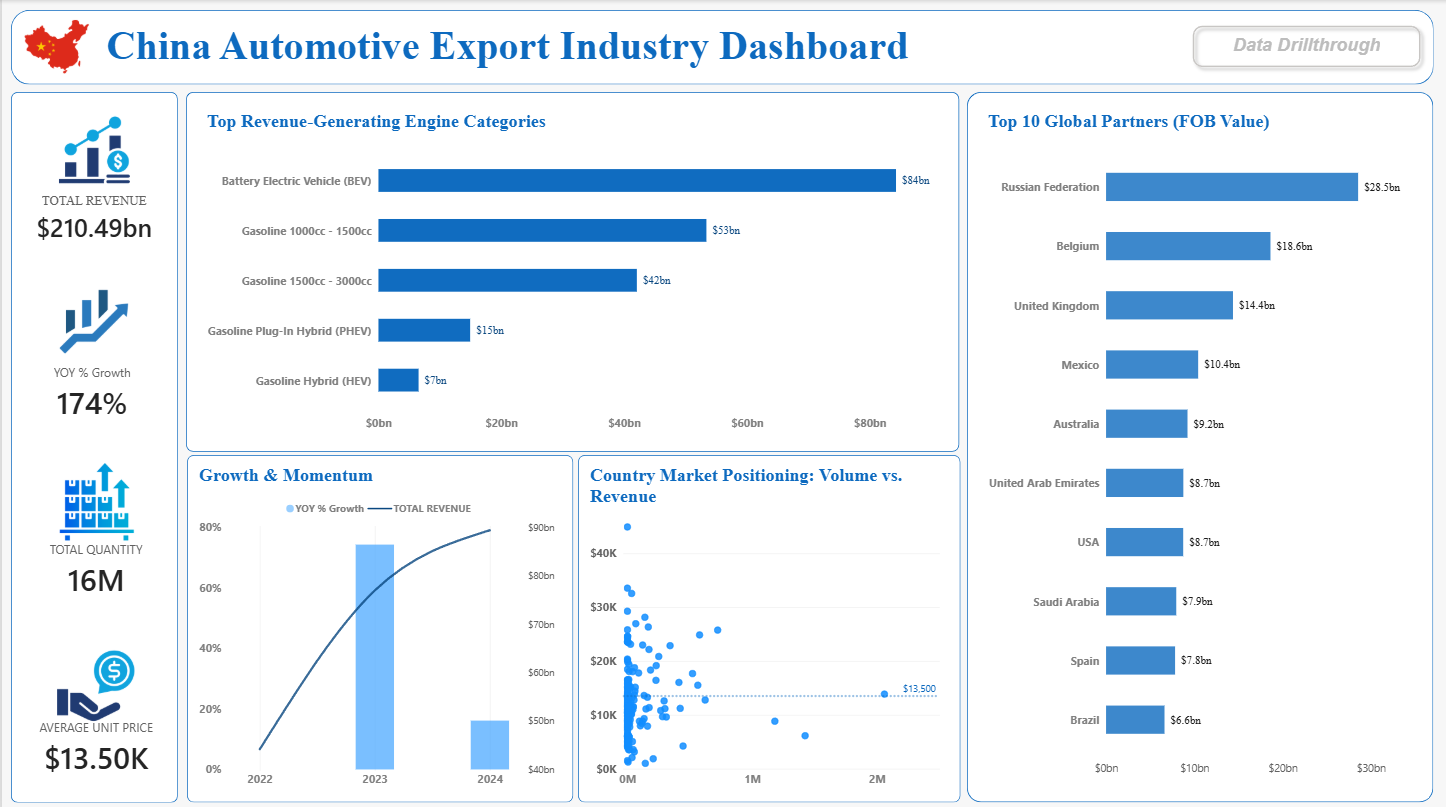

This screenshot's page, from the dashboard's own definition file:
{"tool":"powerbi","page":{"name":"Overview","canvas":[1920,1080],"ordinal":0},"visuals":[{"type":"shape","box":[11.7,122.6,221.8,945.4],"z":0},{"type":"cardVisual","title":"Total Revenue","fields":{"Data":["Mesures.YOY %"]},"box":[20.6,375.9,200,200],"z":1000,"group":"g4"},{"type":"shape","box":[11.7,13.1,1892.3,99.2],"z":2000},{"type":"textbox","box":[25.1,29.2,1294.1,68.6],"z":2000,"group":"g1"},{"type":"cardVisual","title":"Total Revenue","fields":{"Data":["Mesures.Total Revenue"]},"box":[22.6,139.5,200,200],"z":3000,"group":"g5"},{"type":"shape","box":[1283,122.8,620.2,944.7],"z":4000},{"type":"cardVisual","title":"Total Revenue","fields":{"Data":["Mesures.Average QTY"]},"box":[25,612.3,200,200],"z":5000,"group":"g3"},{"type":"shape","box":[765.5,605.2,508.7,462.3],"z":6000},{"type":"shape","box":[245.6,605.2,513.7,462.3],"z":6500},{"type":"shape","box":[245.1,122.6,1028.6,478.5],"z":7000},{"type":"cardVisual","title":"Total Revenue","fields":{"Data":["Mesures.AVERAGE UNIT PRICE"]},"box":[25.1,848.2,200,200],"z":8000,"group":"g2"},{"type":"barChart","title":"Top 10 Global Partners (FOB Value)","fields":{"Category":["Country_Dim.Country"],"Y":["Mesures.TOTAL REVENUE"]},"box":[1294.9,134,600.2,918],"z":9000},{"type":"scatterChart","title":"Country Market Positioning: Volume vs. Revenue","fields":{"Category":["Country_Dim.Country"],"X":["Mesures.TOTAL QUANTITY"],"Y":["Mesures.AVERAGE UNIT PRICE"]},"box":[765.5,605.2,508.7,462.3],"z":10000},{"type":"lineStackedColumnComboChart","title":"Growth & Momentum","fields":{"Category":["Date_Dim.Year"],"Y":["Mesures.YOY % Growth"],"Y2":["Mesures.TOTAL REVENUE"]},"box":[245.6,605.2,513.7,463.6],"z":11000},{"type":"barChart","title":"Top Revenue-Generating Engine Categories","fields":{"Category":["HS_Code_Dim.Sub Category"],"Y":["Mesures.TOTAL REVENUE"]},"box":[256.8,134.1,1017.4,459.8],"z":12000},{"type":"image","box":[13.4,14.6,118.2,94.8],"z":13000,"group":"g1"},{"type":"actionButton","title":"Data Drillthrought","box":[1574.2,24.8,321,72.9],"z":13000},{"type":"group","id":"g1","title":"Group 1","box":[13.4,14.6,1305.8,94.8],"z":14000},{"type":"image","box":[55.7,149.4,134.1,104],"z":15000,"group":"g5"},{"type":"image","box":[55.2,375.8,134.1,103],"z":16000,"group":"g4"},{"type":"image","box":[58.9,615.7,134,103],"z":17000,"group":"g3"},{"type":"image","box":[56.4,860.7,134,103],"z":18000,"group":"g2"},{"type":"group","id":"g2","title":"Group 2","box":[25.1,848.2,200.5,200.5],"z":28500},{"type":"group","id":"g3","title":"Group 3","box":[25,612.3,200,200],"z":29000},{"type":"group","id":"g4","title":"Group 4","box":[20.6,375.8,200,200.1],"z":29500},{"type":"group","id":"g5","title":"Group 5","box":[22.6,139.5,200,200],"z":30000}]}

Visuals, with their boxes in screenshot pixels (x1, y1, x2, y2), scaled from the page's 1920x1080 canvas onto the 1446x807 screenshot:
shape: {"left": 9, "top": 92, "right": 176, "bottom": 798}
"Total Revenue" cardVisual: {"left": 16, "top": 281, "right": 166, "bottom": 430}
shape: {"left": 9, "top": 10, "right": 1434, "bottom": 84}
textbox: {"left": 19, "top": 22, "right": 994, "bottom": 73}
"Total Revenue" cardVisual: {"left": 17, "top": 104, "right": 168, "bottom": 254}
shape: {"left": 966, "top": 92, "right": 1433, "bottom": 798}
"Total Revenue" cardVisual: {"left": 19, "top": 458, "right": 169, "bottom": 607}
shape: {"left": 577, "top": 452, "right": 960, "bottom": 798}
shape: {"left": 185, "top": 452, "right": 572, "bottom": 798}
shape: {"left": 185, "top": 92, "right": 959, "bottom": 449}
"Total Revenue" cardVisual: {"left": 19, "top": 634, "right": 170, "bottom": 783}
"Top 10 Global Partners (FOB Value)" barChart: {"left": 975, "top": 100, "right": 1427, "bottom": 786}
"Country Market Positioning: Volume vs. Revenue" scatterChart: {"left": 577, "top": 452, "right": 960, "bottom": 798}
"Growth & Momentum" lineStackedColumnComboChart: {"left": 185, "top": 452, "right": 572, "bottom": 799}
"Top Revenue-Generating Engine Categories" barChart: {"left": 193, "top": 100, "right": 960, "bottom": 444}
image: {"left": 10, "top": 11, "right": 99, "bottom": 82}
"Data Drillthrought" actionButton: {"left": 1186, "top": 19, "right": 1427, "bottom": 73}
"Group 1" group: {"left": 10, "top": 11, "right": 994, "bottom": 82}
image: {"left": 42, "top": 112, "right": 143, "bottom": 189}
image: {"left": 42, "top": 281, "right": 143, "bottom": 358}
image: {"left": 44, "top": 460, "right": 145, "bottom": 537}
image: {"left": 42, "top": 643, "right": 143, "bottom": 720}
"Group 2" group: {"left": 19, "top": 634, "right": 170, "bottom": 784}
"Group 3" group: {"left": 19, "top": 458, "right": 169, "bottom": 607}
"Group 4" group: {"left": 16, "top": 281, "right": 166, "bottom": 430}
"Group 5" group: {"left": 17, "top": 104, "right": 168, "bottom": 254}
